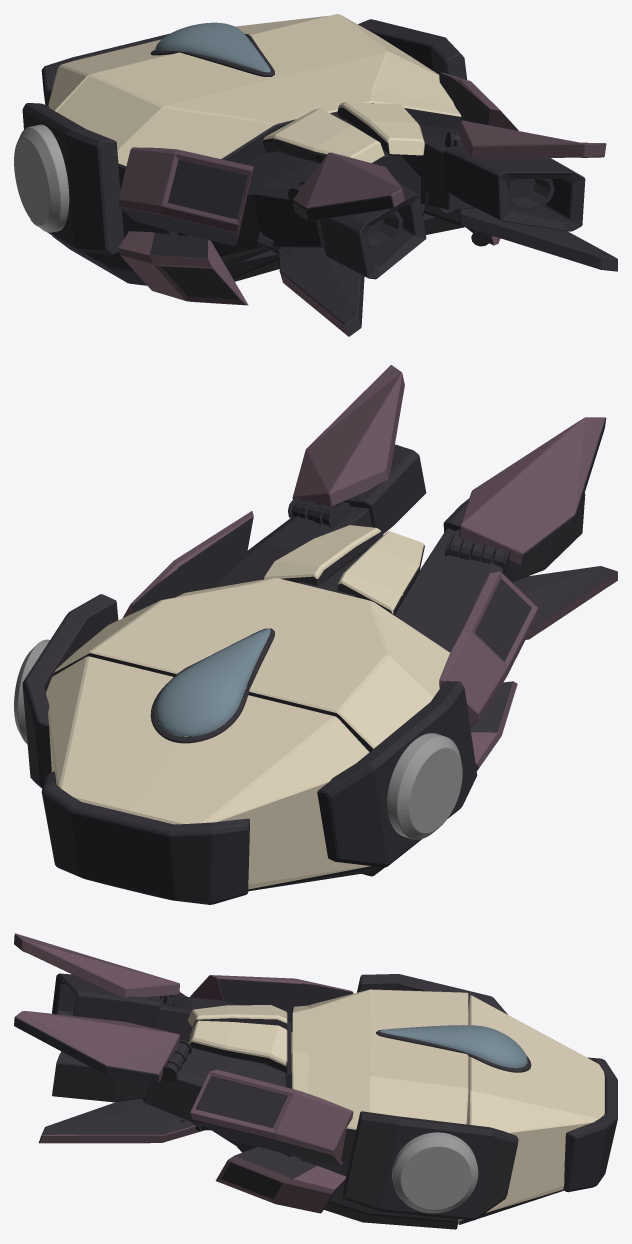
File: Bulwark.fbx
3 renders of one model, top to bottom at view 1: azimuth 30°, elevation 25°; view 2: azimuth 150°, elevation 25°; view 3: azimuth 270°, elevation 25°, orthographic. The views are drawn at different scales.
Visible parts, largest first — view 1: Hull, Canopy, Cores; view 2: Hull, Canopy; view 3: Hull, Canopy.
Boxes of the visible parts, bbox=[...] form: Hull: bbox=[14, 14, 617, 336]; Canopy: bbox=[155, 22, 270, 72]; Cores: bbox=[367, 178, 554, 249]; Hull: bbox=[14, 365, 617, 904]; Canopy: bbox=[155, 629, 270, 736]; Hull: bbox=[14, 933, 617, 1229]; Canopy: bbox=[379, 1025, 527, 1068].
Size of the model in its own units: 604 by 345 by 961.
